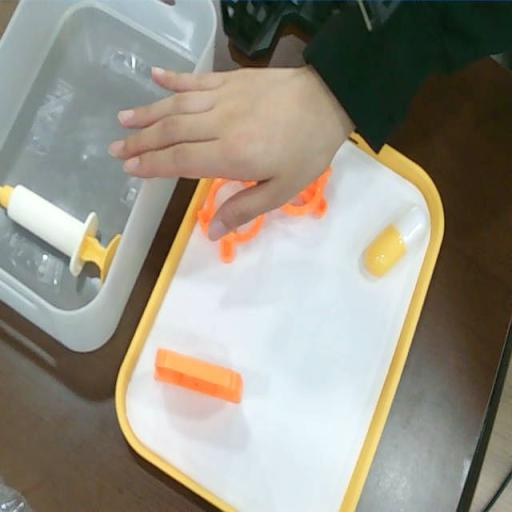hospital: (105, 62, 310, 250)
